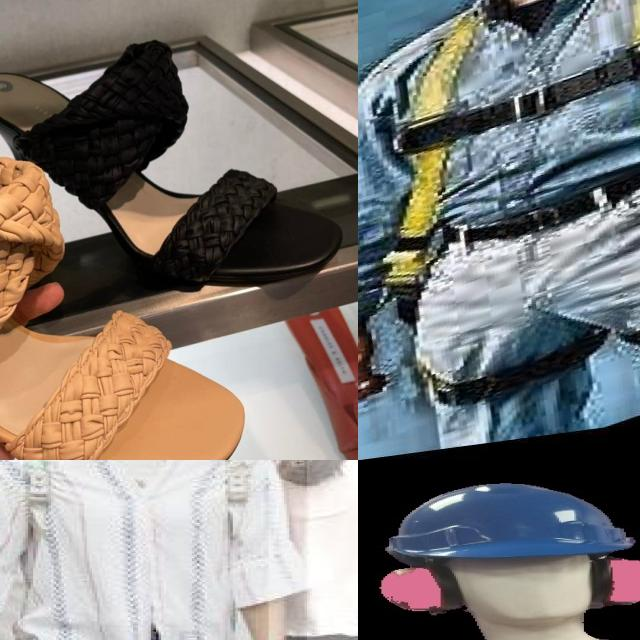Ear-protection: (358, 571, 640, 638)
Harness: (383, 0, 640, 333)
Sandals: (0, 5, 347, 299), (0, 128, 272, 460)
head_helmet: (358, 472, 640, 568)
person: (0, 460, 309, 640), (268, 460, 358, 640)
